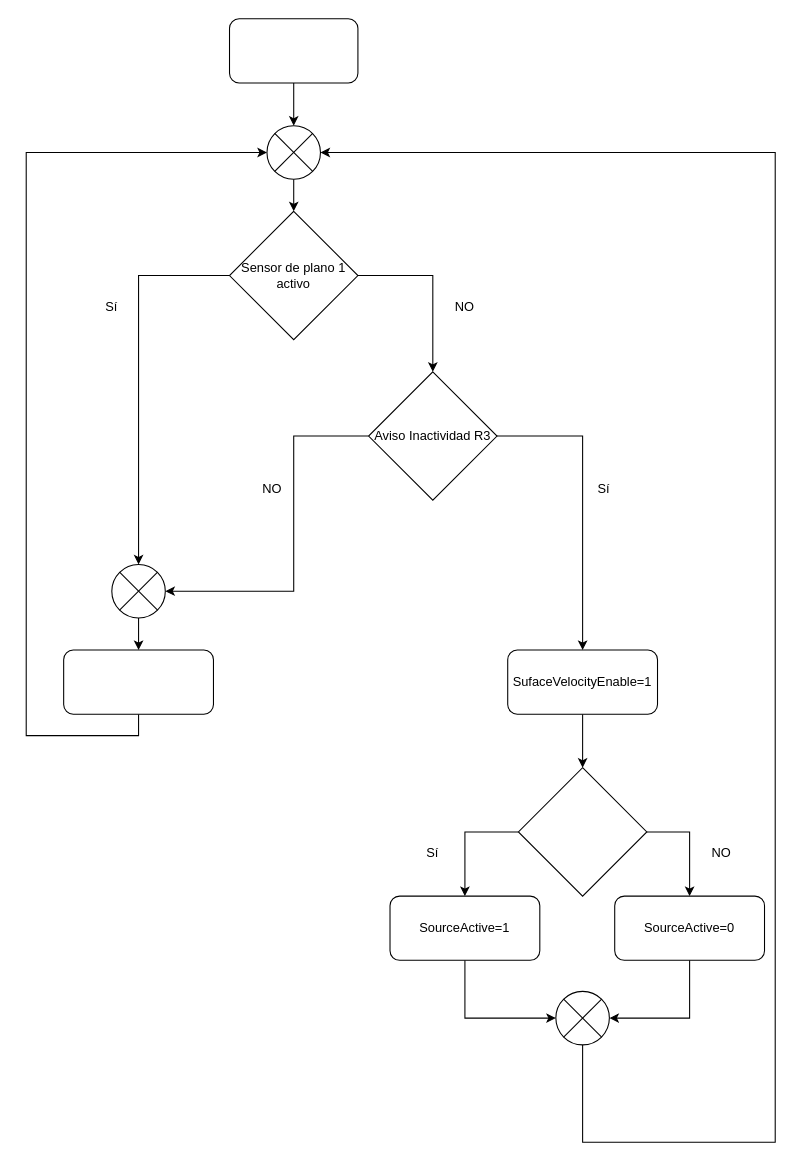
This 803x1170 diagram has some shape labels left out. Each missing label, with the centre of its shape:
"Inicio" goes at (293,50).
"Sensor de plano 3 activo" goes at (582,831).
"SufaceVelocityEnable=0" goes at (138,681).
